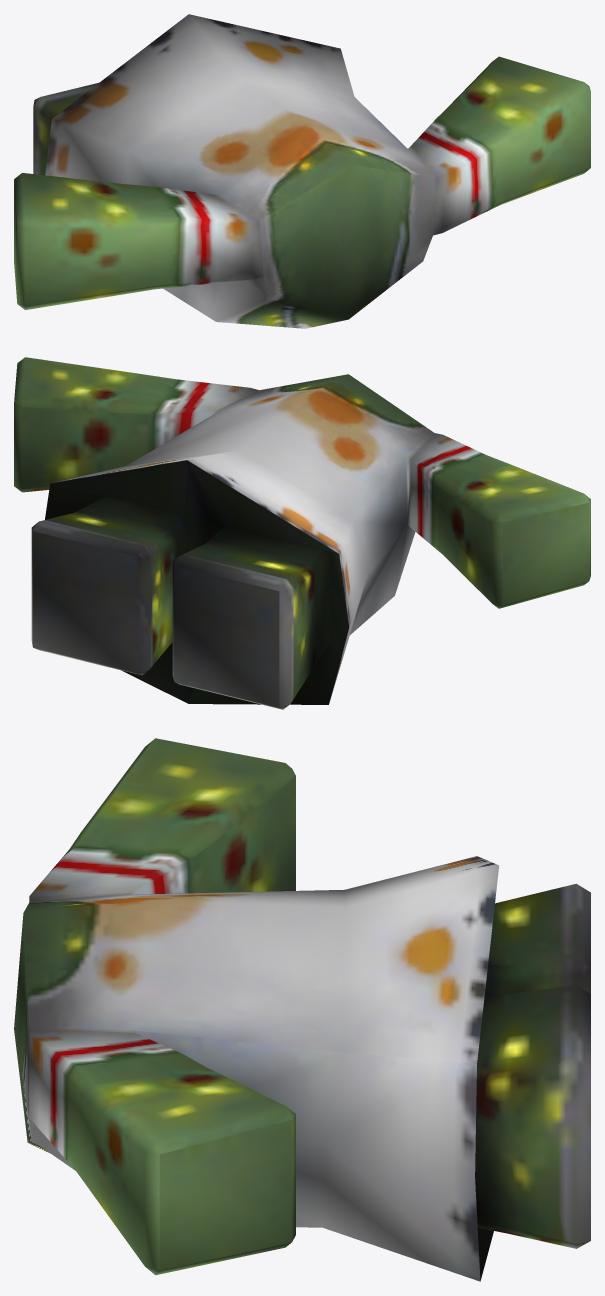
File: Zombie_Nurse_H_Body_0314d67c__Zombie_Nurse_Green_6fcc3c18_c1f257.obj
The picture shows the model from 3 angles, top to bottom: view 1: azimuth 30°, elevation 25°; view 2: azimuth 150°, elevation 25°; view 3: azimuth 270°, elevation 25°; orthographic projection. The views are drawn at different scales.
Size of the model in its own units: 1.41 by 0.5751 by 0.8337.
Materials: 1 (1 with a texture image).
